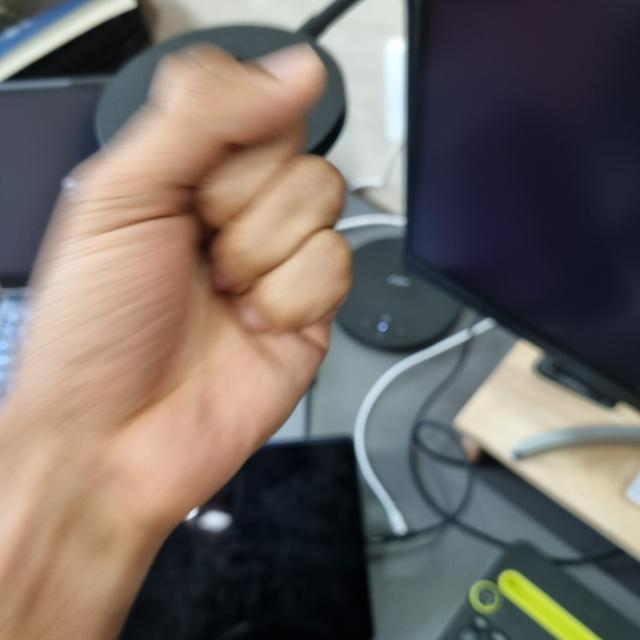Rock: (8, 49, 345, 520)
